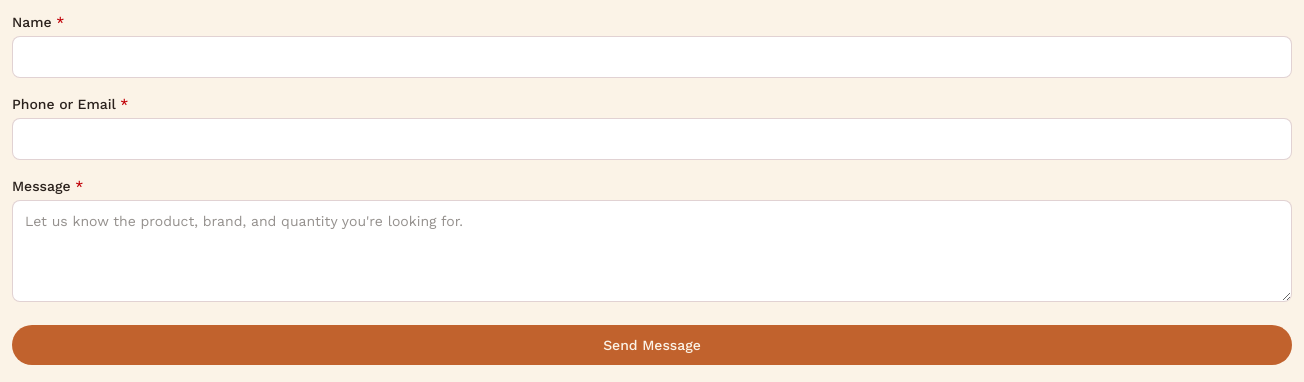
Scenario: ContactForm — post-submit thank-you panel › shows a persistent thank-you panel (not a transient toast) with a WhatsApp fallback link when a number is available
In the field labelled "Name *": (652, 57) 12,36 -> 1292,78, type "Asha"
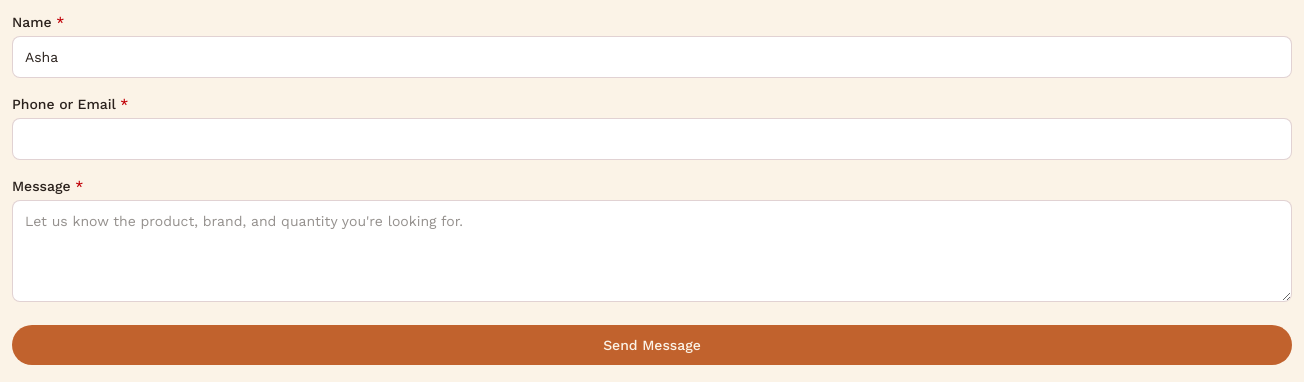
In the field labelled "Phone or Email *": (652, 139) 12,118 -> 1292,160, type "asha@example.com"
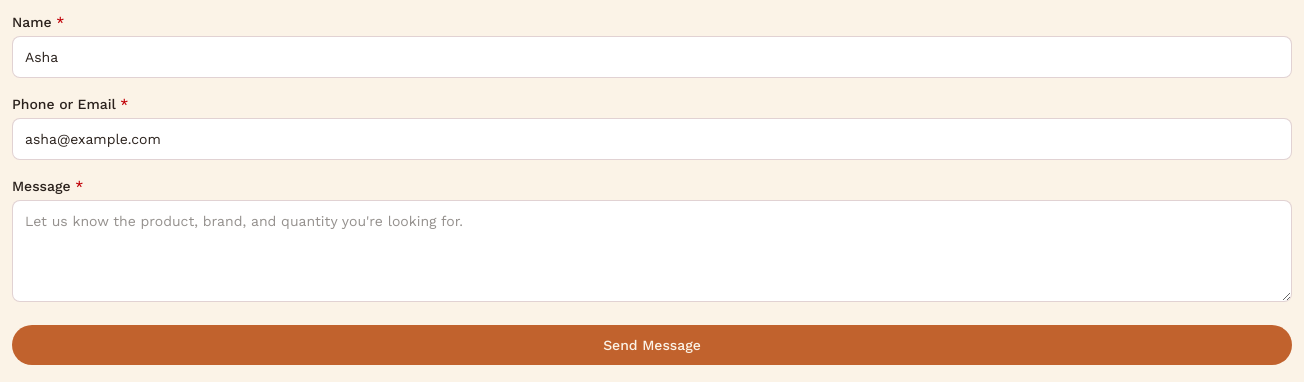
Replace the text in the text box labelled "Message *" with "Do you have sandalwood dhoop?": (652, 251) 12,200 -> 1292,302
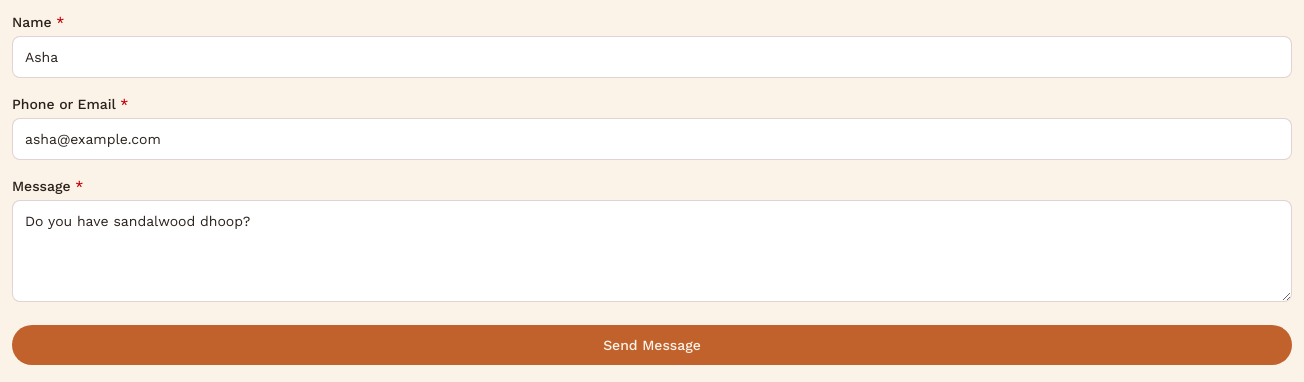
Click the button "Send Message": (652, 345) 12,325 -> 1292,365
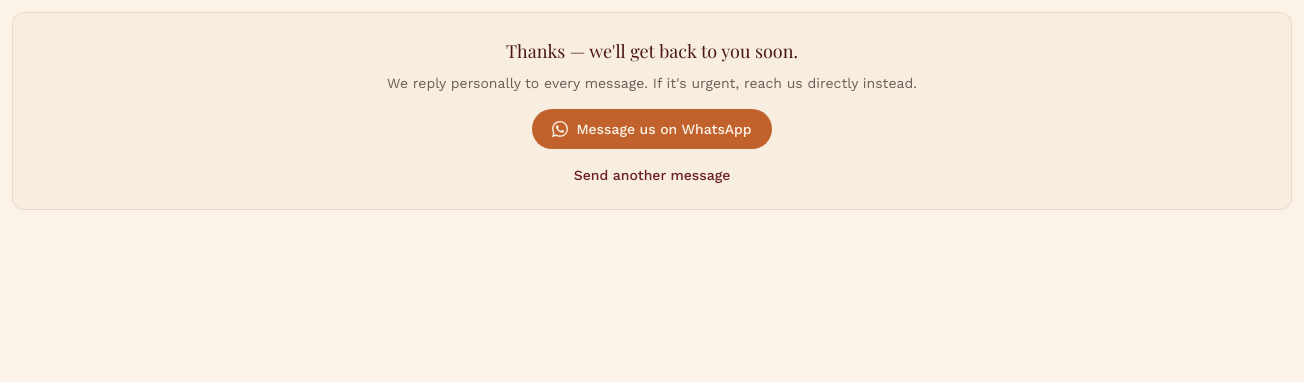
Result: the text "Thanks — we'll get back to you soon." is shown at 506,39 -> 798,63
Result: the button "Send Message" is gone
